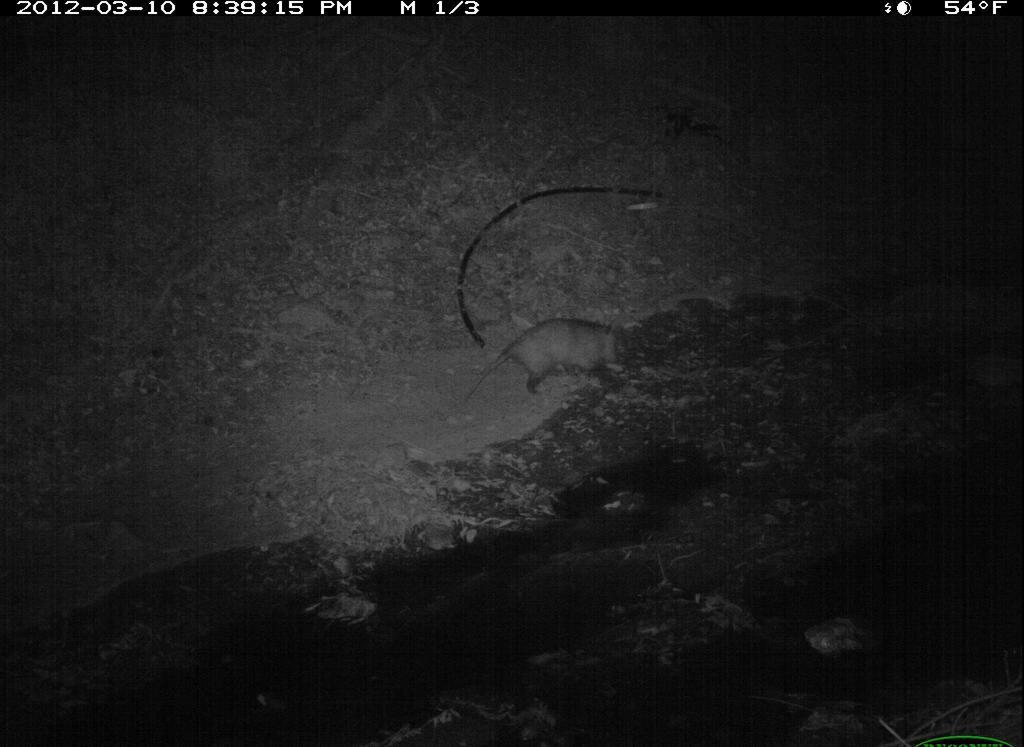opossum: (442, 272, 657, 445)
